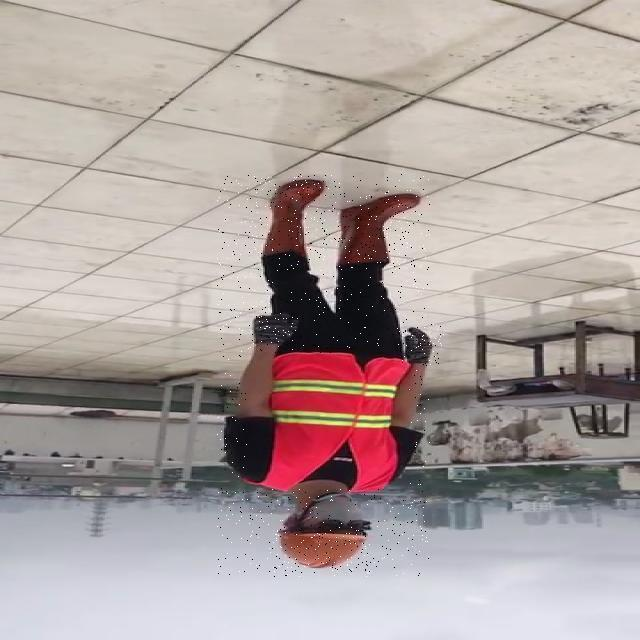gloves: (249, 305, 302, 346), (402, 326, 434, 365)
